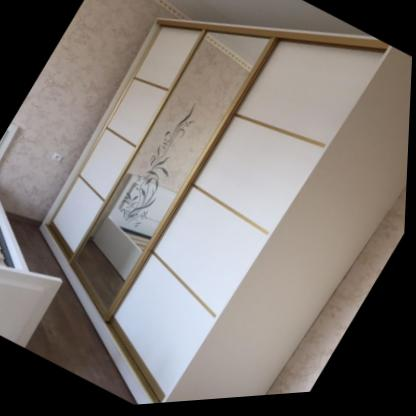Bed: (0, 198, 65, 349)
Closet: (41, 22, 391, 407)
Wooden floor: (14, 223, 140, 407)
